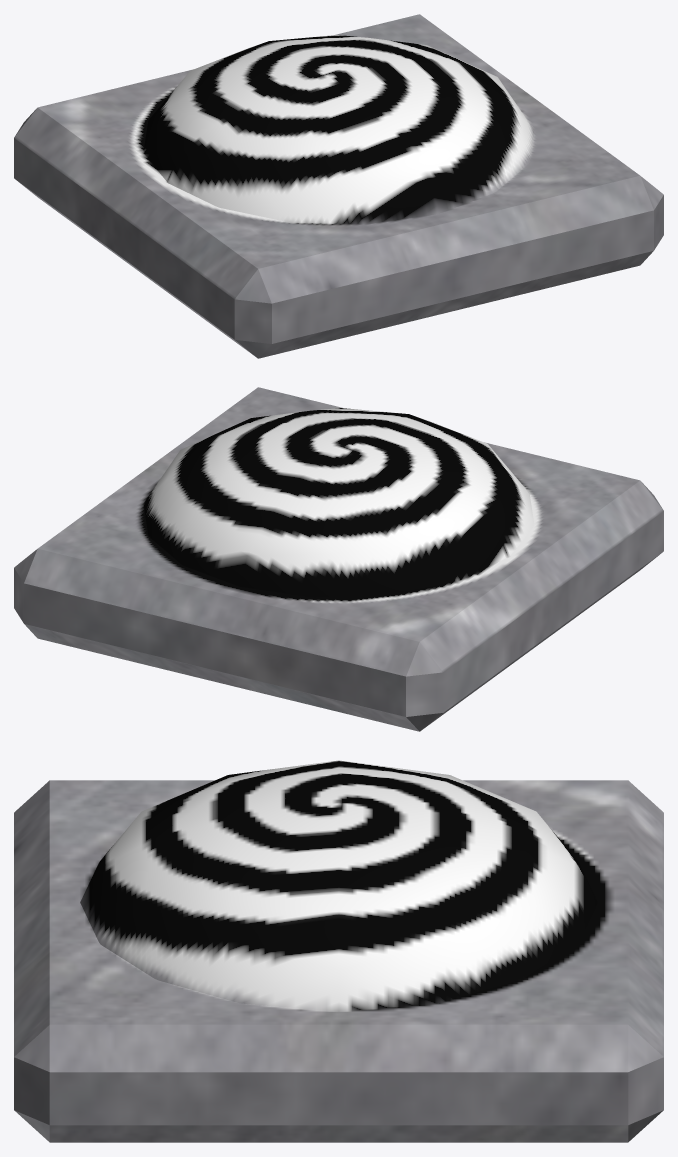
Rendered from Hypnograbber.FBX.
3 renders of one model, top to bottom at view 1: azimuth 30°, elevation 25°; view 2: azimuth 150°, elevation 25°; view 3: azimuth 270°, elevation 25°, orthographic. The views are drawn at different scales.
Visible parts, largest first — view 1: Box01; view 2: Box01; view 3: Box01.
Part boxes in pixels (x1=…): Box01: x1=14, y1=14, x2=663, y2=358; Box01: x1=14, y1=387, x2=663, y2=731; Box01: x1=14, y1=760, x2=663, y2=1142.
Bounding box in the file's own units: 7.87 × 7.87 × 2.8.
